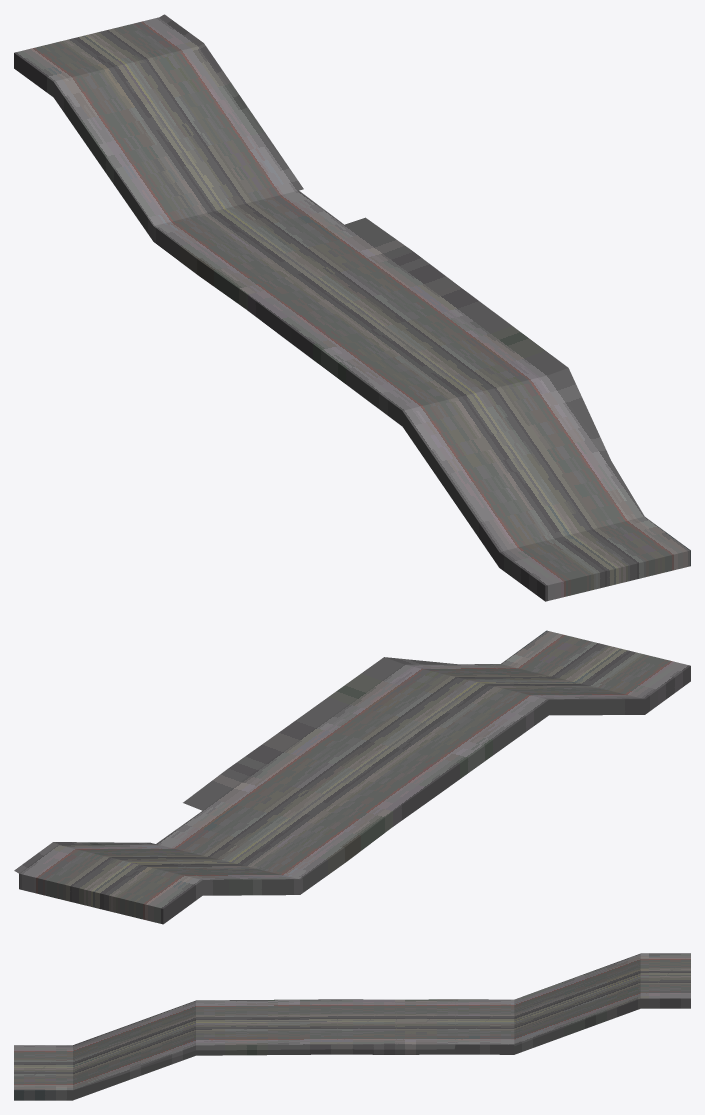
Rendered from lodroads_sfw41.obj.
3 views of the same model, one above another, from view 1: azimuth 30°, elevation 25°; view 2: azimuth 150°, elevation 25°; view 3: azimuth 270°, elevation 25° (orthographic). The views are drawn at different scales.
Parts seen in each view (by area): view 1: LODroads_sfw41; view 2: LODroads_sfw41; view 3: LODroads_sfw41.
Part boxes in pixels (x1,y1,x2,y2): LODroads_sfw41: (14,14,690,601); LODroads_sfw41: (14,630,690,924); LODroads_sfw41: (14,953,690,1100).
Bounding box in the file's own units: 41.78 × 38.58 × 230.
1 material, 1 textured.
